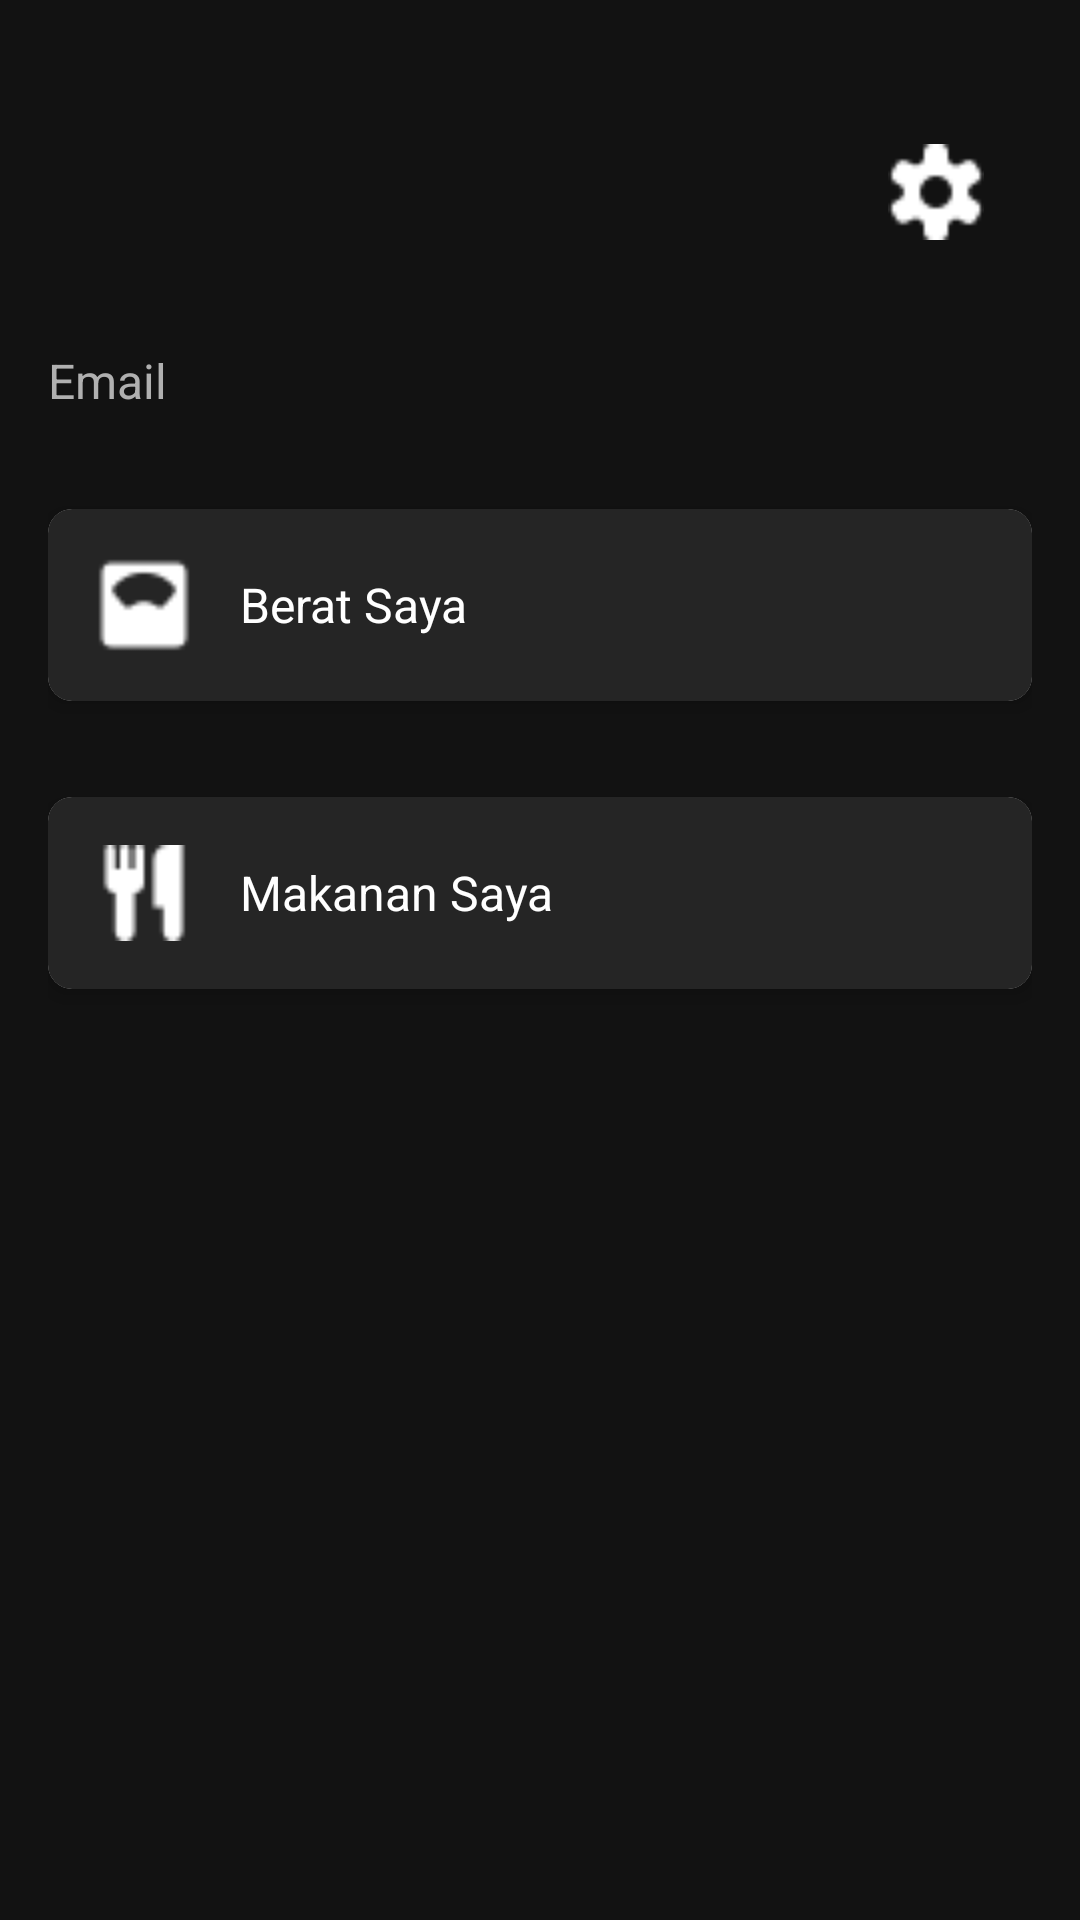

Locate icon controls on the screen. Image size 1080px×1920px, boxes as (x1, y1, x2, y2).
Food Icon: (103, 845, 185, 941)
Settings Icon: (888, 144, 984, 240)
Weight Icon: (99, 560, 189, 650)
